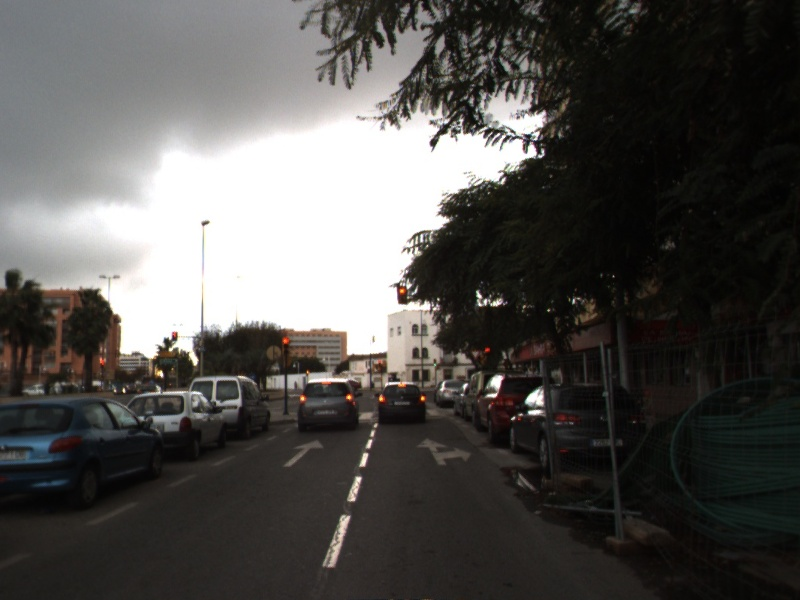STRAIGHT: (281, 438, 325, 468)
STRAIGHT_RIGHT: (415, 436, 473, 466)
